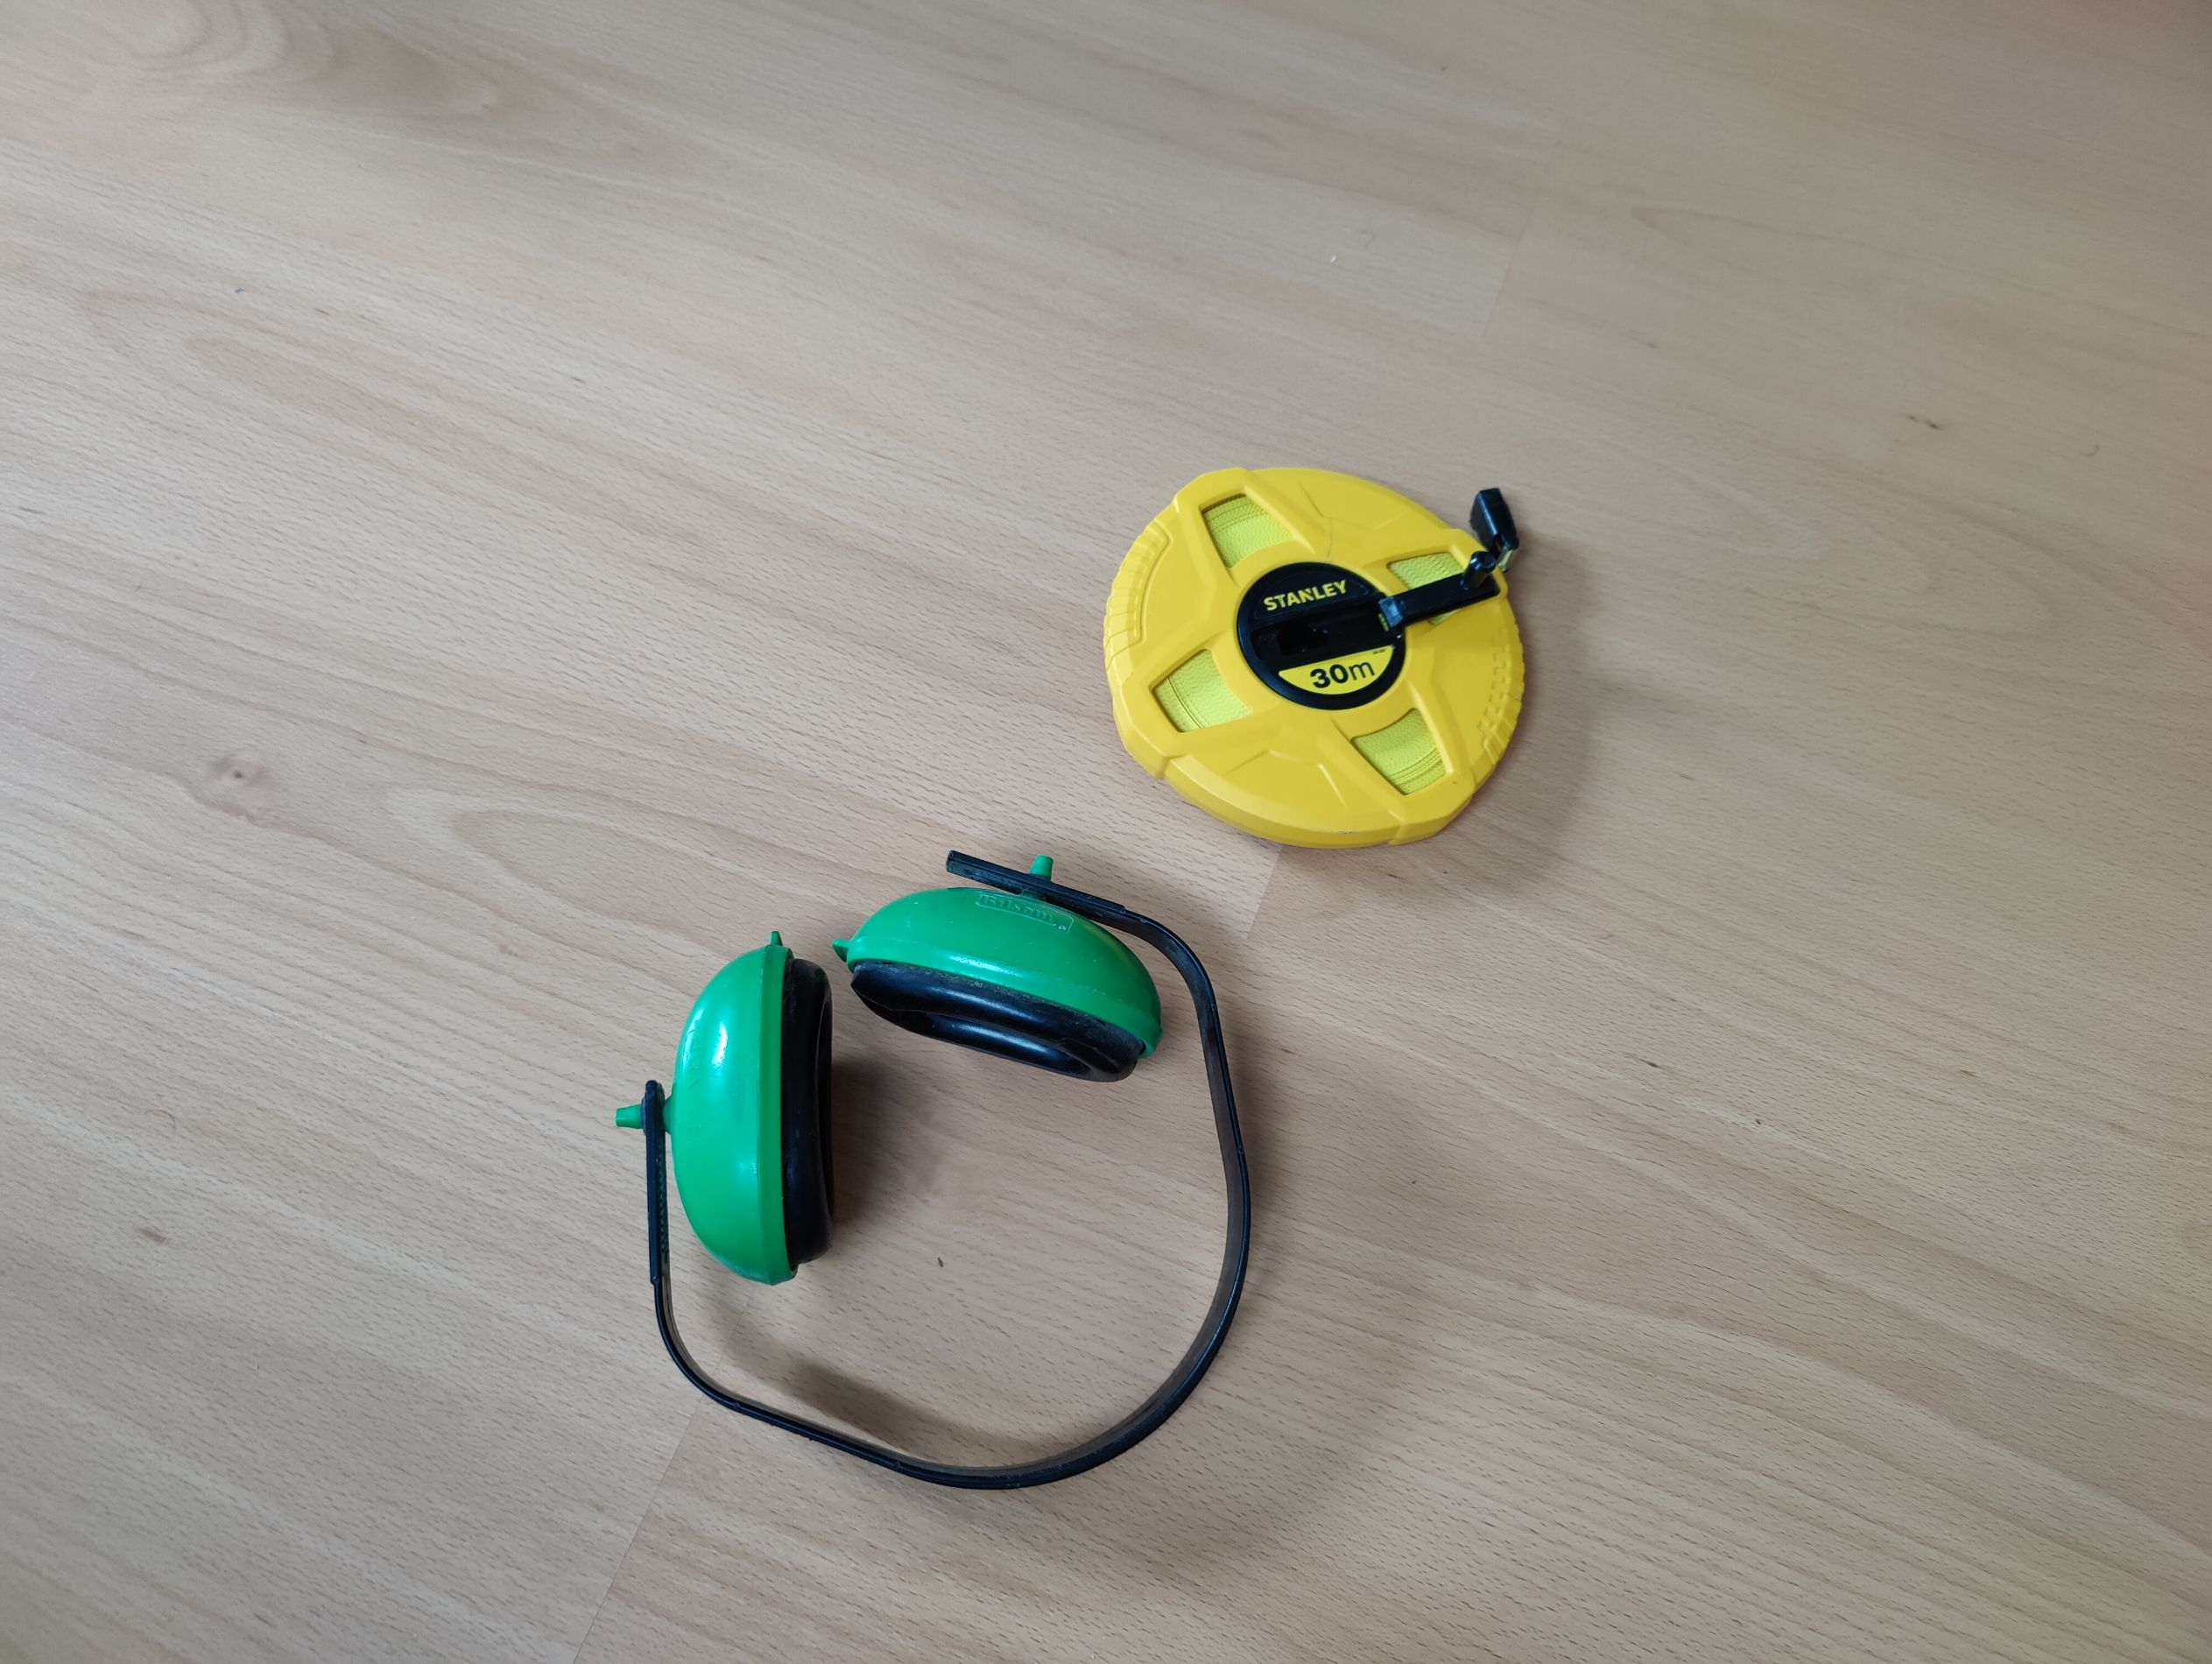headphones: (615, 853, 1256, 1484)
tapemeasure: (1101, 467, 1534, 858)
